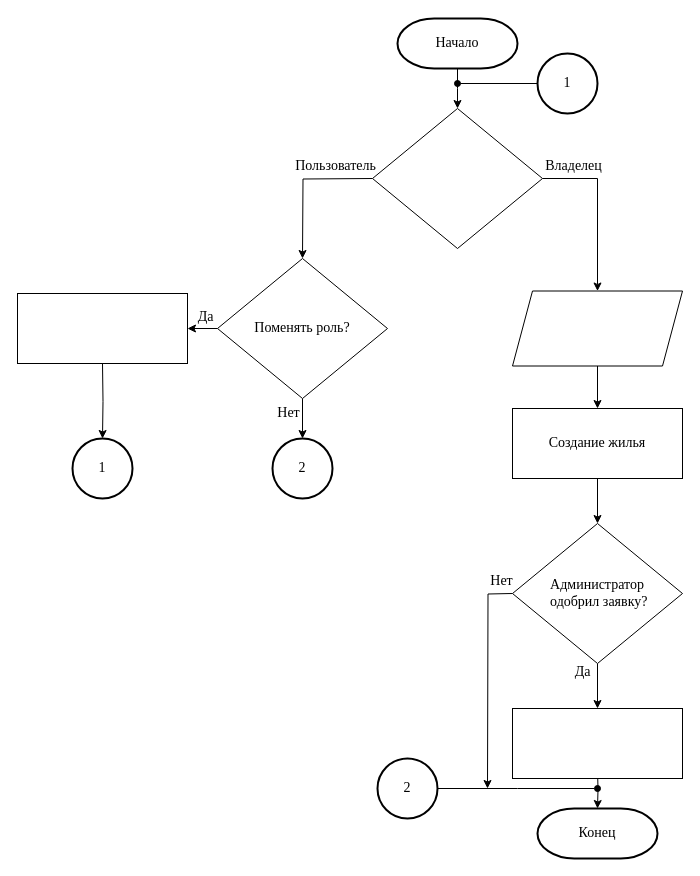
Some shapes in this 700 by 876 pixel diagram are drawn without their labels. Here are the shapes that lost their labels. From the top down, the centre of each, then its label:
point (457, 178): Какая роль у пользователя?
point (102, 328): Смена роли
point (597, 328): Заполнение информации о новом жилье
point (597, 743): Жилье теперь видно в каталоге и достпуно для бронирования
